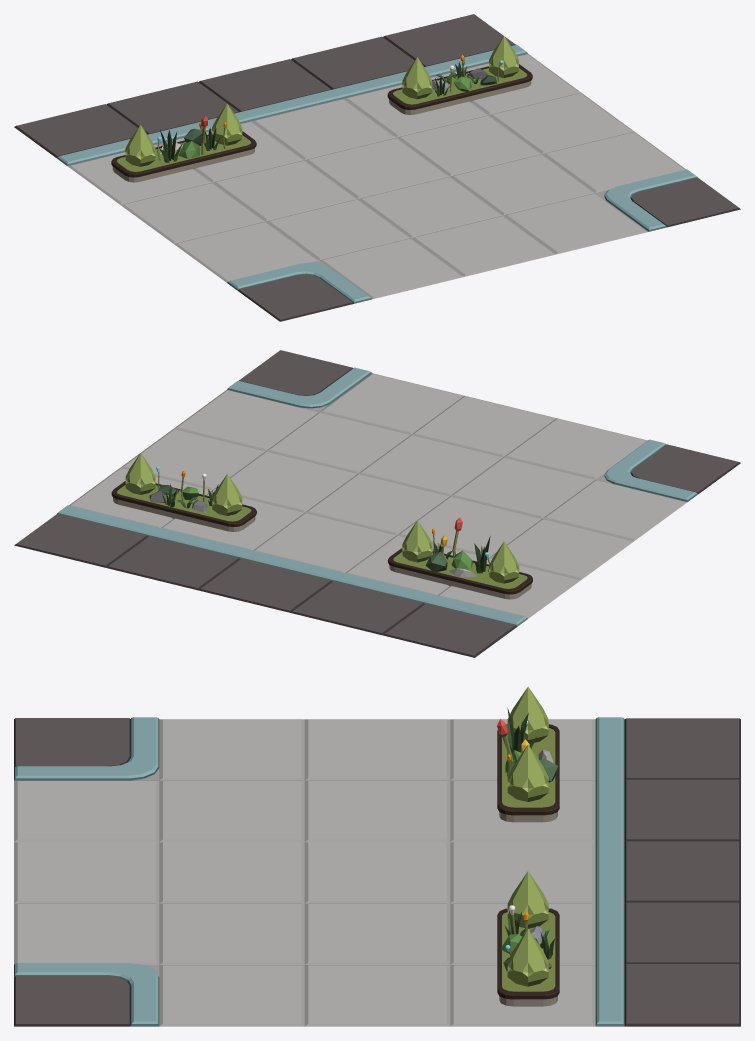
File: Fork_C.glb
3 renders of one model, top to bottom at view 1: azimuth 30°, elevation 25°; view 2: azimuth 150°, elevation 25°; view 3: azimuth 270°, elevation 25°, orthographic. The views are drawn at different scales.
Parts seen in each view (by area): view 1: Fork_C, Cube.245, Cube.246, Cone.114, Cone.117, Cone.115, Cone.116; view 2: Fork_C, Cube.245, Cube.246, Cone.114, Cone.116, Cone.115, Cone.117; view 3: Fork_C, Cube.245, Cube.246, Cone.115, Cone.116, Cone.114, Cone.117.
Part boxes in pixels (x1=…): Fork_C: x1=14, y1=14, x2=740, y2=321; Cube.245: x1=387, y1=64, x2=532, y2=114; Cube.246: x1=111, y1=131, x2=256, y2=182; Cone.114: x1=402, y1=57, x2=432, y2=99; Cone.117: x1=125, y1=125, x2=155, y2=166; Cone.115: x1=489, y1=36, x2=518, y2=77; Cone.116: x1=212, y1=103, x2=242, y2=145; Fork_C: x1=14, y1=350, x2=740, y2=657; Cube.245: x1=111, y1=481, x2=256, y2=531; Cube.246: x1=387, y1=548, x2=532, y2=599; Cone.114: x1=212, y1=474, x2=242, y2=515; Cone.116: x1=402, y1=520, x2=432, y2=562; Cone.115: x1=125, y1=453, x2=155, y2=494; Cone.117: x1=489, y1=541, x2=519, y2=583; Fork_C: x1=14, y1=717, x2=740, y2=1026; Cube.245: x1=497, y1=908, x2=559, y2=1006; Cube.246: x1=497, y1=724, x2=559, y2=822; Cone.115: x1=507, y1=929, x2=548, y2=986; Cone.116: x1=507, y1=744, x2=548, y2=801; Cone.114: x1=507, y1=871, x2=548, y2=928; Cone.117: x1=507, y1=686, x2=548, y2=742.
Size of what is drawn, in the model's own units: 16 by 1.69 by 16.
Materials: 1 (1 with a texture image).
